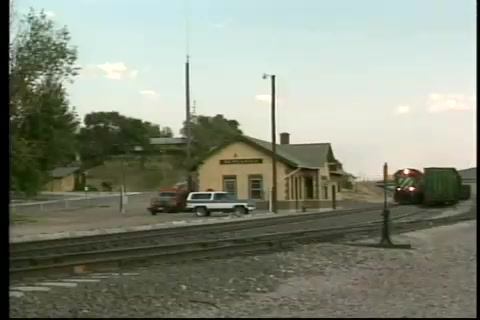train: (391, 168, 426, 205)
